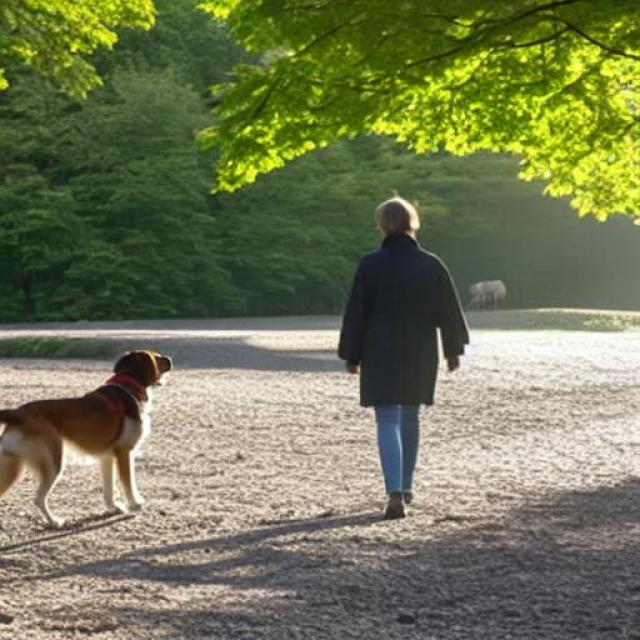Unleashed_Dog: (0, 351, 436, 529)
